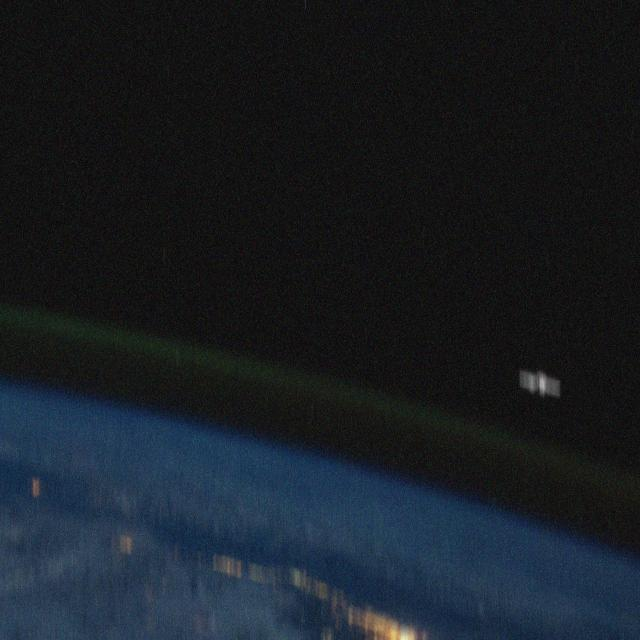satellite: (513, 366, 573, 409)
